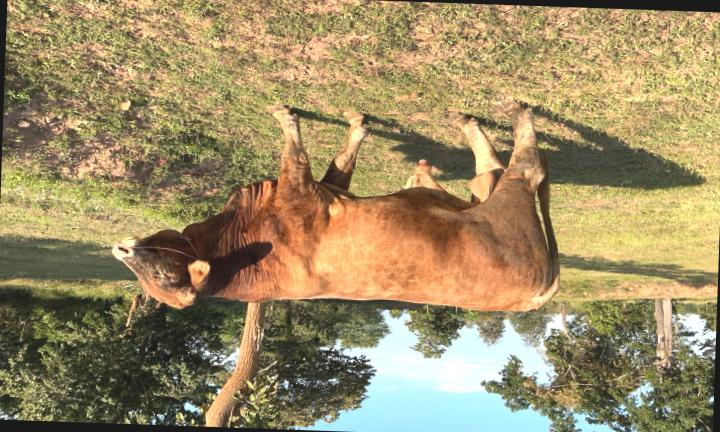Charolais: (113, 101, 559, 311)
